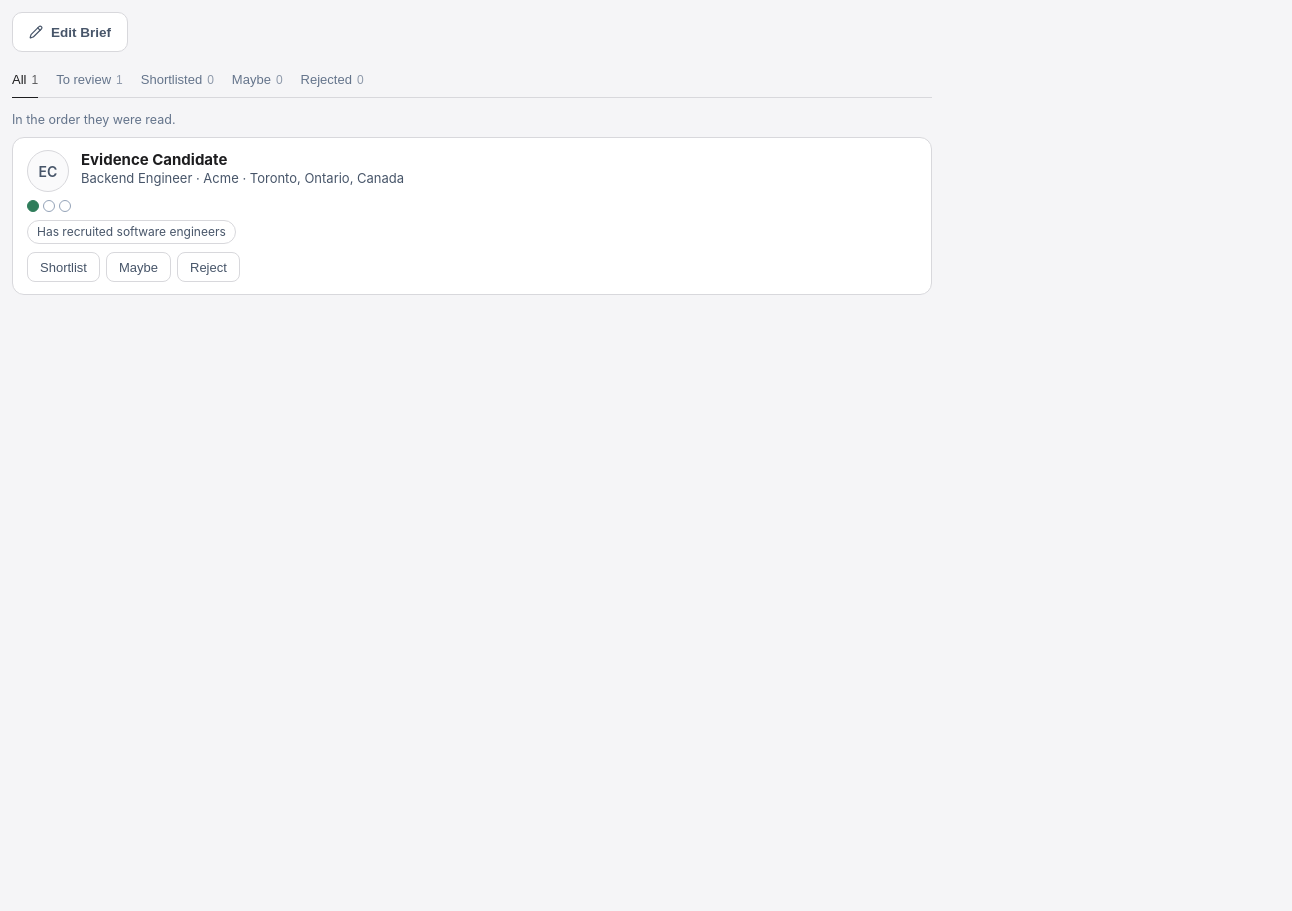
Test: evidence state: met / not_evidenced / unknown › 5. existing recruiter actions (Shortlist/Maybe/Reject) are unaffected
Click the element with class "ws-card". click: (472, 216)
box: top-left (12, 137), bottom-right (932, 295)
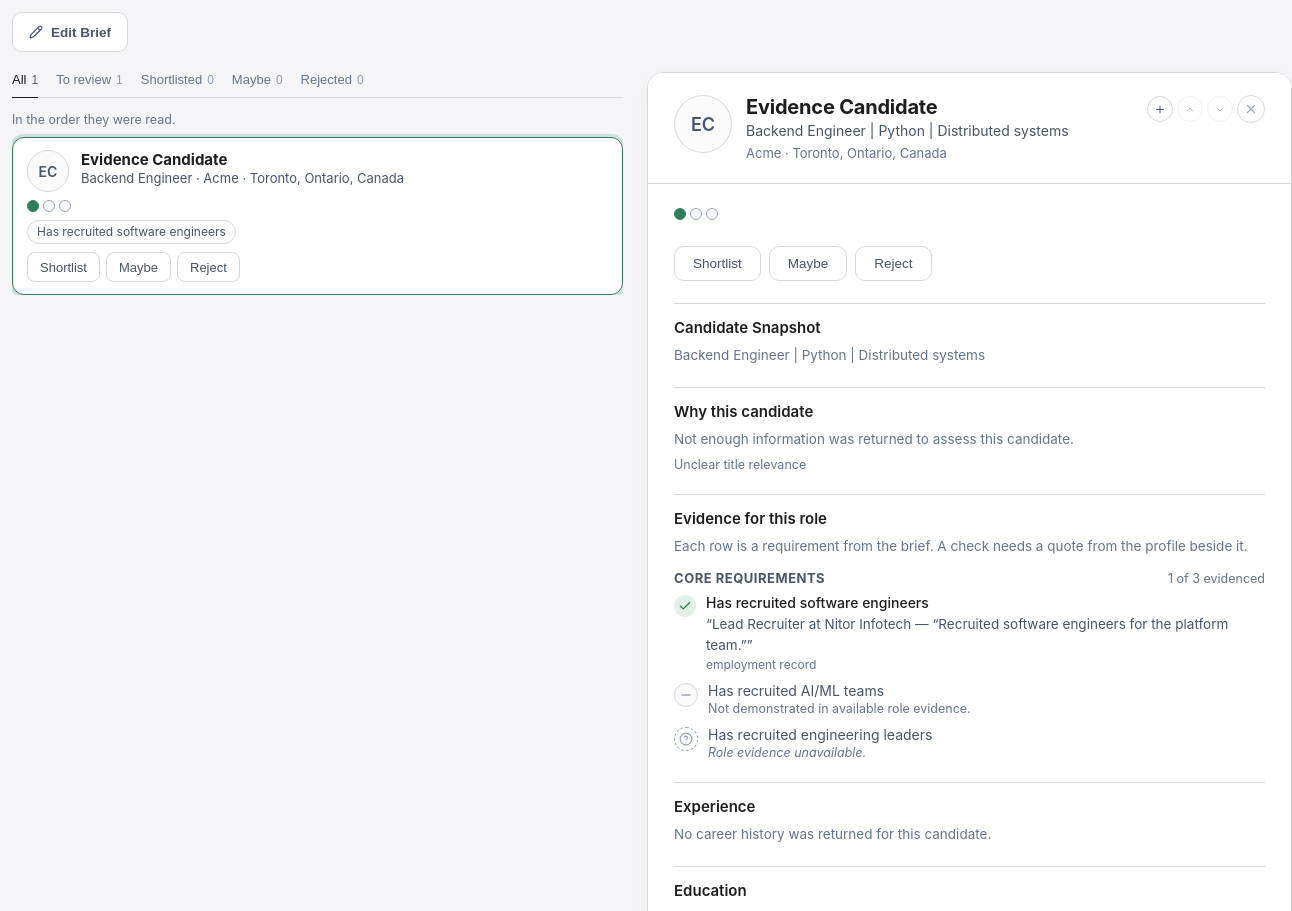
Expected: the 2nd button "Shortlist" is shown, top-left (674, 246), bottom-right (761, 281)
Expected: the 2nd button "Maybe" is shown, top-left (769, 246), bottom-right (847, 281)
Expected: the 2nd button "Reject" is shown, top-left (855, 246), bottom-right (932, 281)
